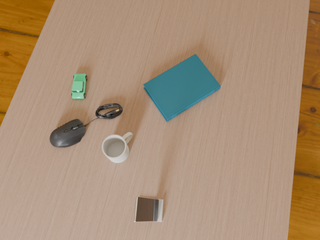book: (143, 54, 221, 122)
cup: (102, 132, 133, 163)
mouse: (50, 119, 87, 147)
phone: (134, 197, 159, 222)
toy_car: (72, 74, 87, 99)
